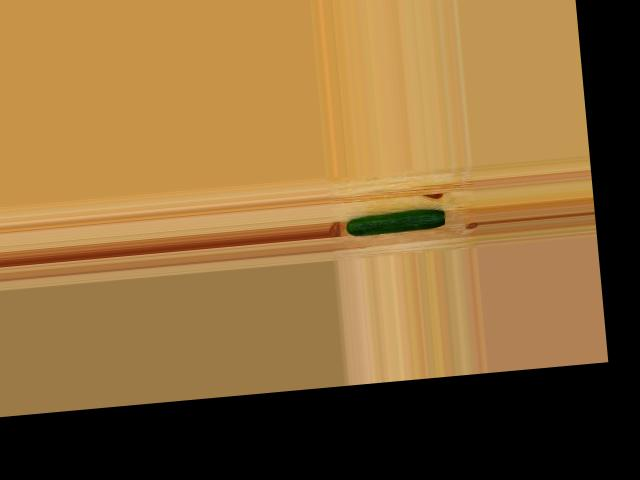cucumber: (345, 208, 445, 236)
